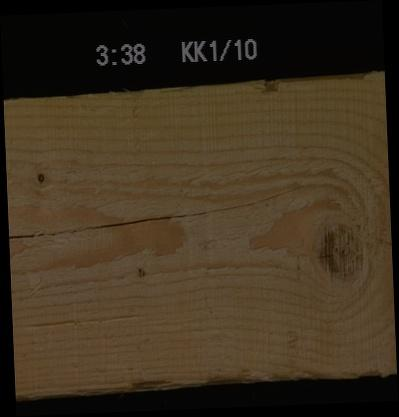dry_knot: (35, 171, 44, 183)
small_knot: (134, 265, 146, 279)
sound_knot: (316, 226, 366, 280)
split: (8, 187, 307, 233)
wave: (73, 363, 396, 389)
